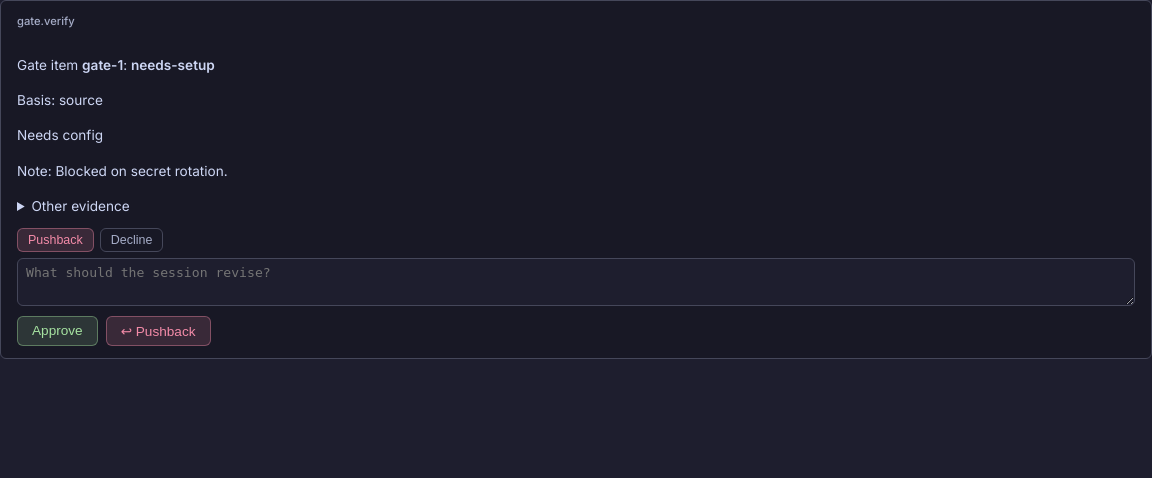
StagedIntentPanel › gate.verify › shows unrecognised extra evidence fields rather than dropping them
Check: the text "Note: Blocked on secret rotation." is shown, box [17, 162, 228, 178]
Note: queriesRun is a structural (array) value, so it still collapses.
Click the heading "Other evidence" at {"x": 81, "y": 206}, box [31, 198, 130, 214]
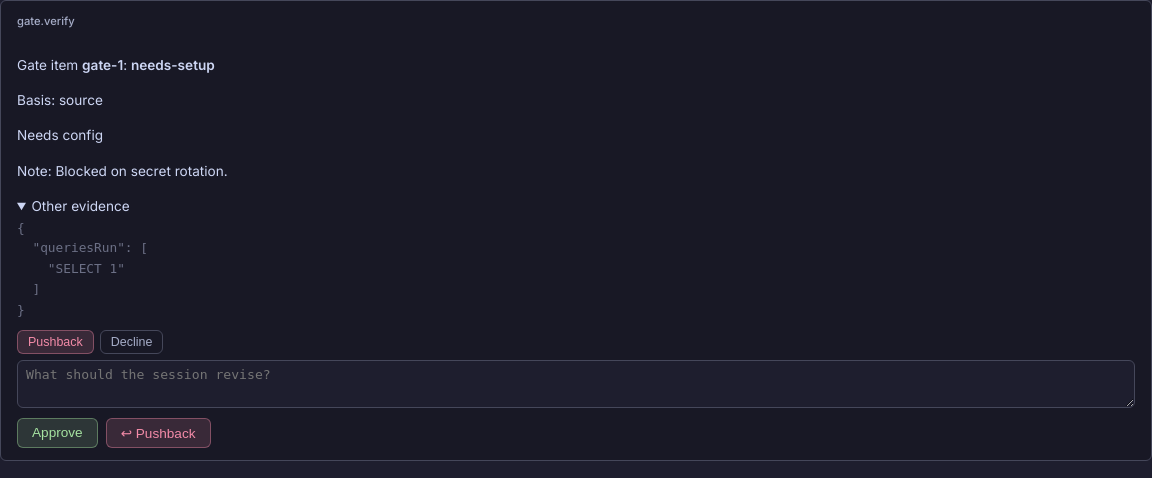
Check: the text "{ \"queriesRun\": [ \"SELECT 1\" ] }" is shown, box [17, 220, 148, 316]
